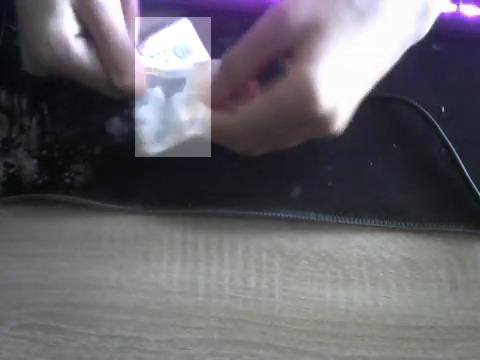20leva: (135, 17, 211, 157)
